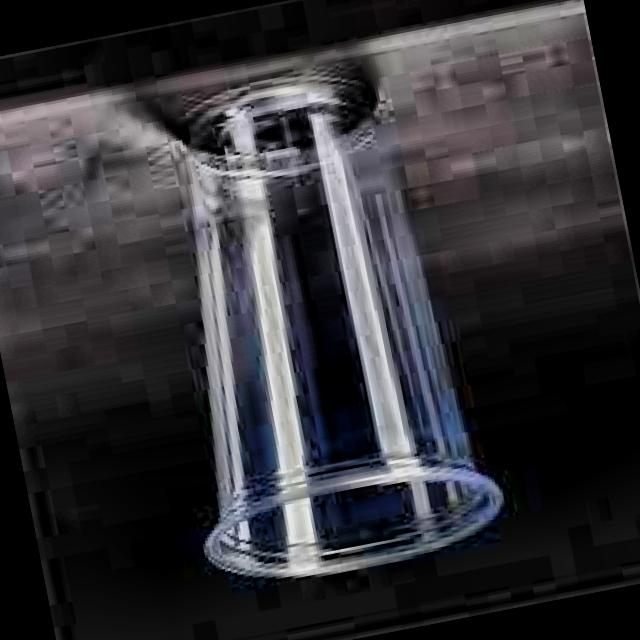plastic cup: (187, 64, 503, 575)
